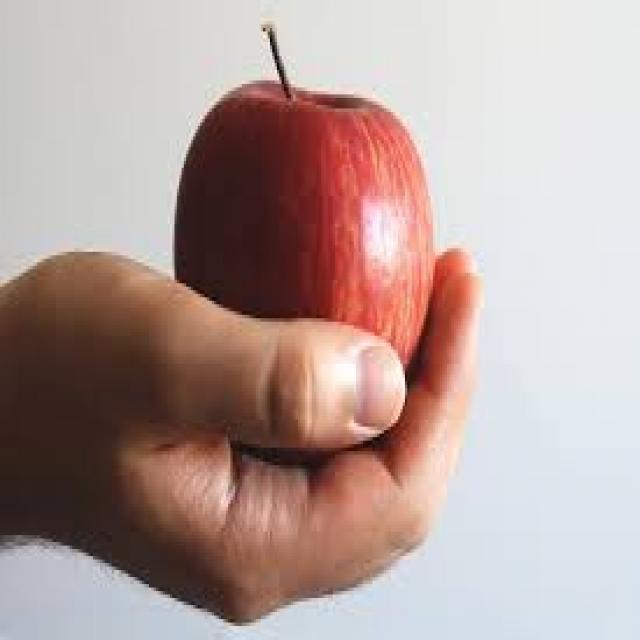Fresh Apple: (170, 57, 452, 378)
